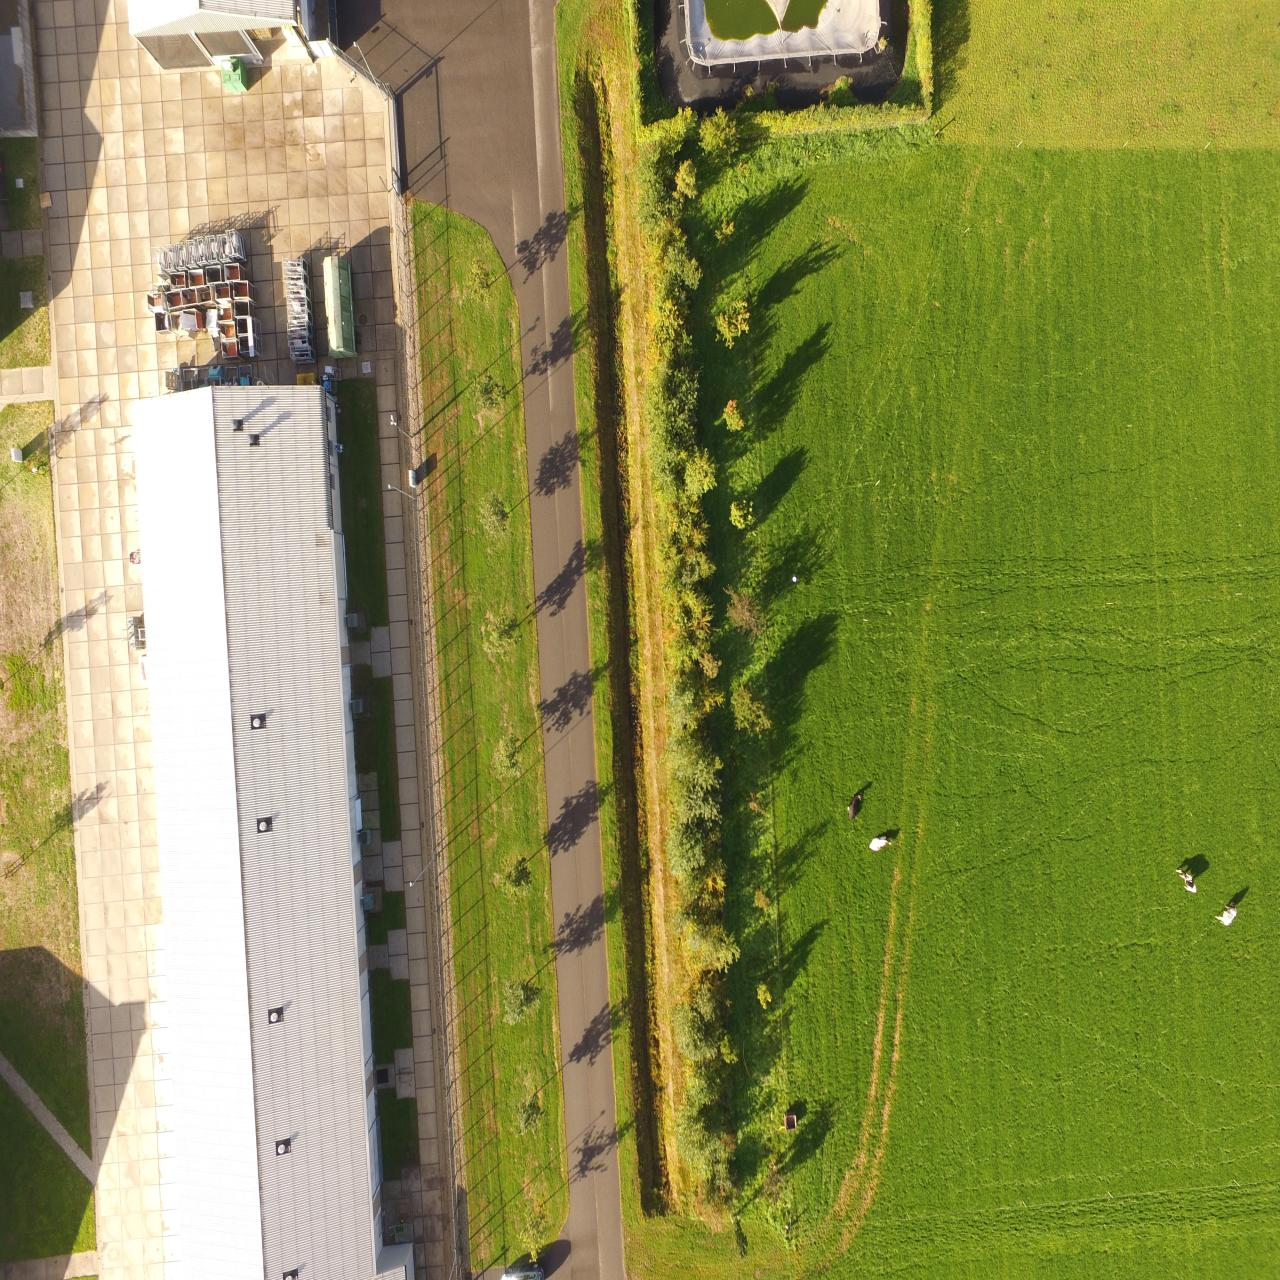cow: (842, 785, 865, 825), (1170, 865, 1200, 896), (1214, 901, 1235, 927), (866, 833, 890, 855)
